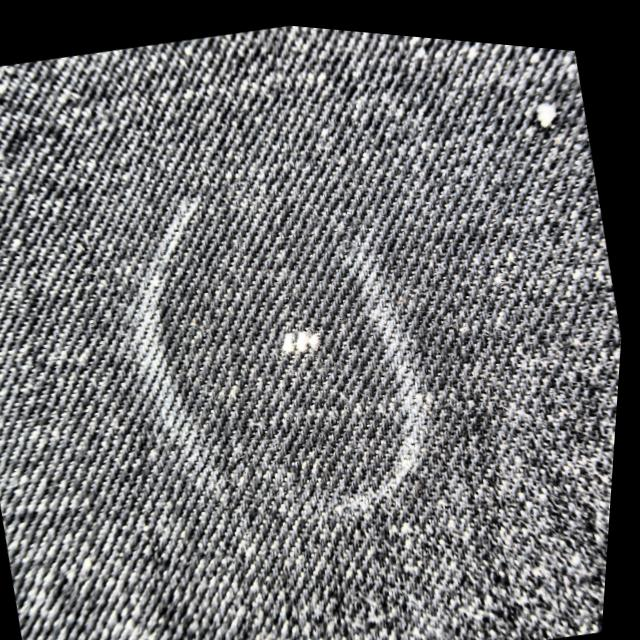Hole: (277, 313, 344, 358)
